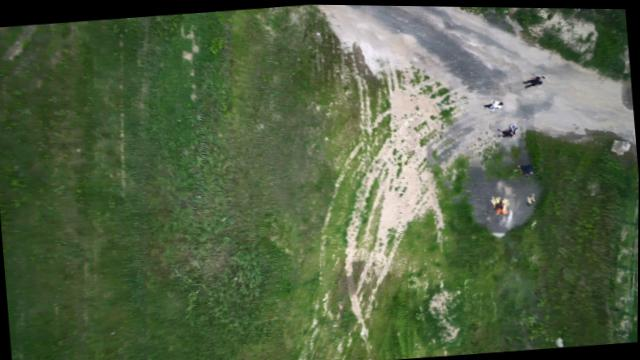fire: (474, 180, 520, 219)
